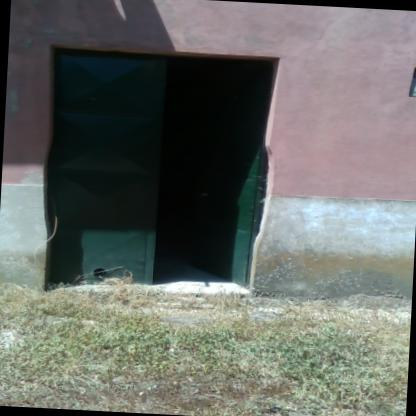open: (30, 30, 286, 307)
